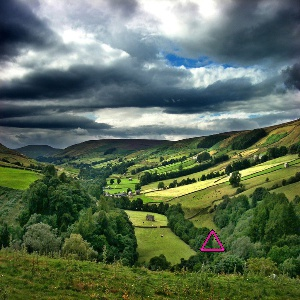triangle: (198, 227, 226, 255)
